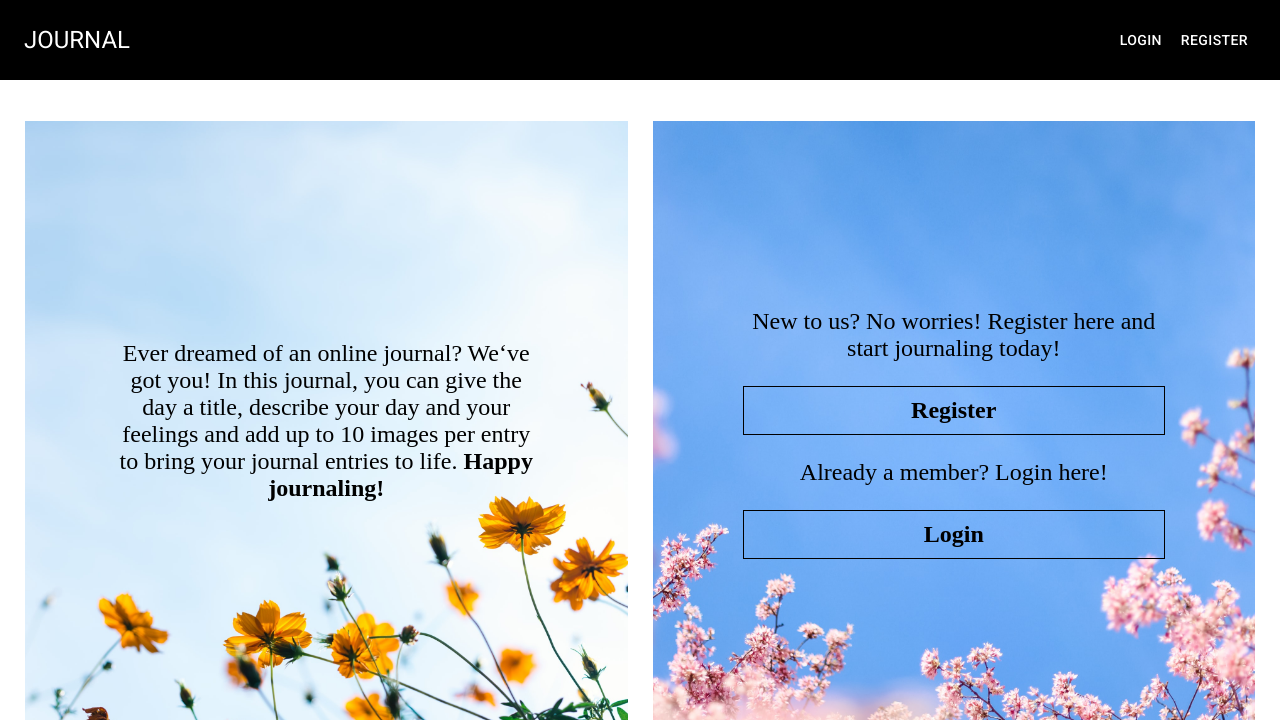
Test case: Journal app › when account has been created › login fails with wrong password
Click the button "Login": x=1141, y=40 [1120,32,1162,48]
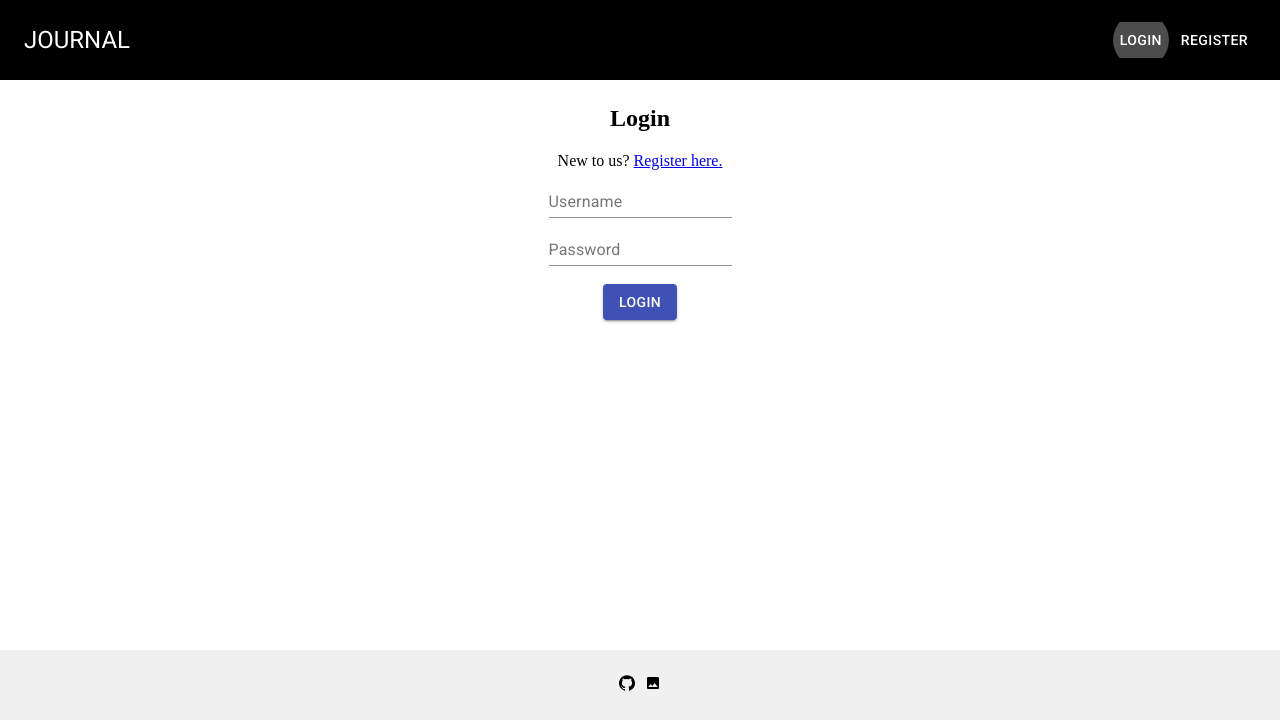
In the field with id "username": x=641, y=202 [549,186,732,218], type "testUser"
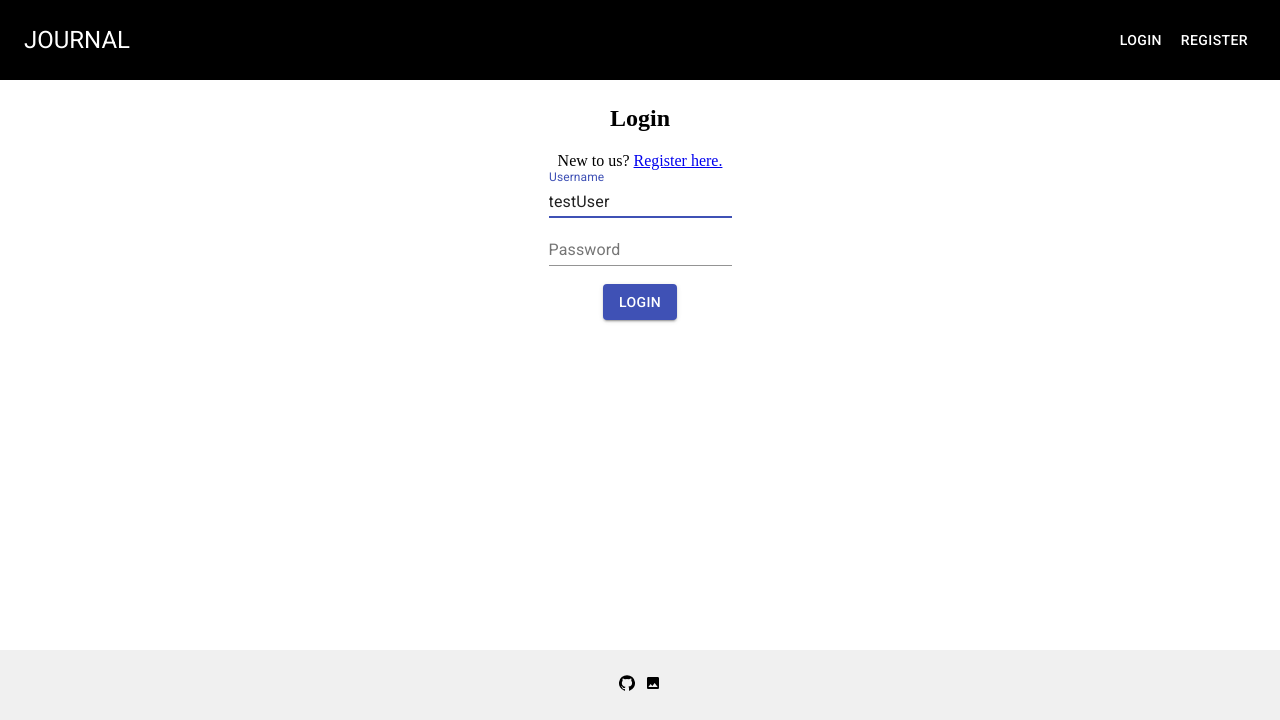
In the password field labelled "Password": x=641, y=250 [549,234,732,266], type "wrongPassword"
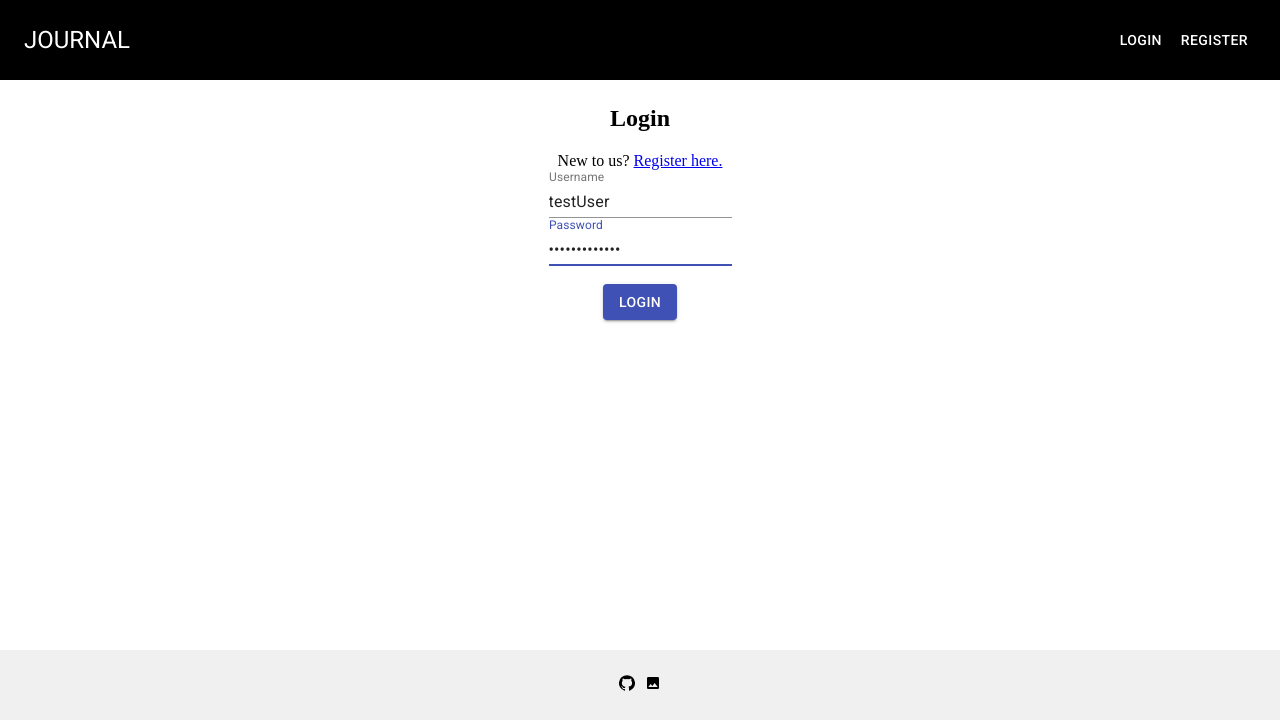
Click the button with id "login-button": x=640, y=303 [603,284,677,321]
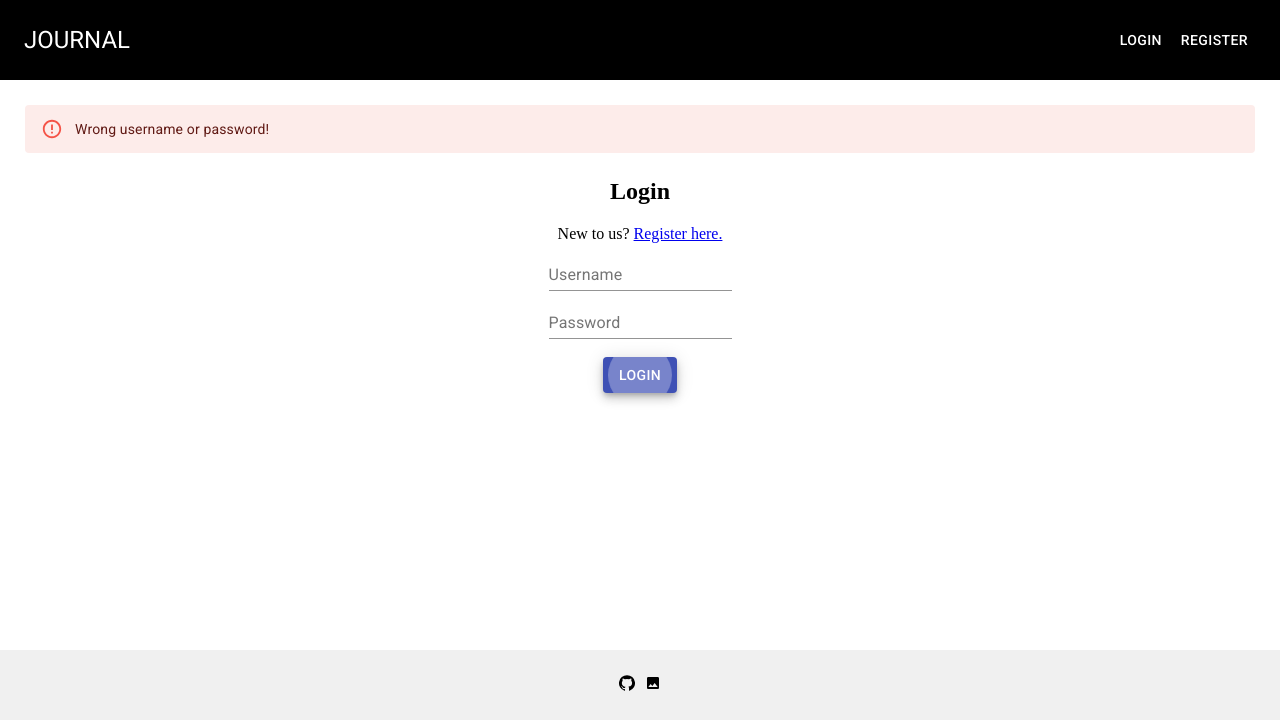
Expected: the text "Wrong username or password" is shown, [75,121,266,137]
